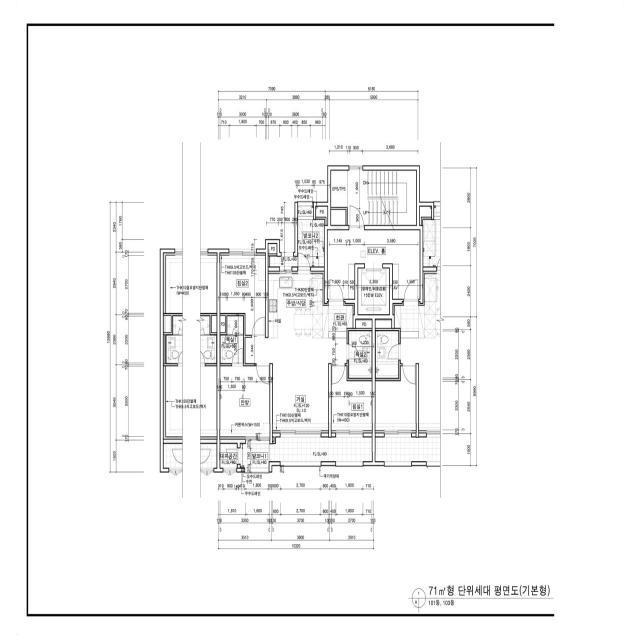space_balconi: (240, 437, 372, 468), (298, 219, 324, 266), (270, 256, 298, 266), (298, 205, 313, 216)
space_bedroom: (220, 253, 265, 335), (220, 366, 270, 439), (331, 366, 372, 433)
space_elevator: (358, 268, 389, 314)
space_elevator_hall: (328, 230, 420, 299)
space_front: (329, 302, 353, 331)
space_kitchen: (268, 274, 329, 338)
space_living_room: (245, 338, 347, 433)
space_other: (220, 444, 237, 468), (331, 210, 346, 225), (316, 207, 327, 225), (356, 319, 372, 328), (268, 244, 277, 253), (220, 316, 225, 332)
space_staircase: (331, 171, 416, 225)
space_toilet: (349, 331, 372, 378), (221, 316, 243, 363)
